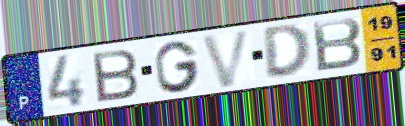4: (44, 52, 89, 110)
B: (310, 16, 365, 74), (89, 47, 142, 104)
D: (260, 23, 314, 80)
G: (152, 38, 202, 94)
V: (199, 26, 255, 90)
